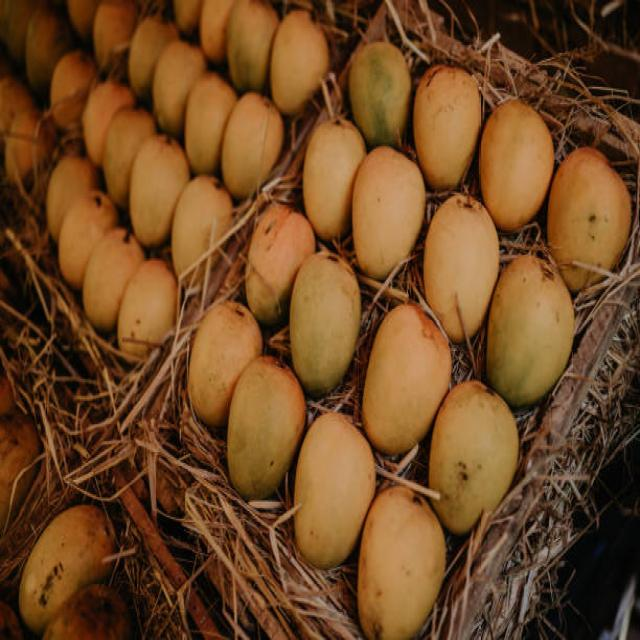mango: (429, 381, 519, 534), (486, 254, 575, 407), (358, 486, 445, 639), (362, 305, 450, 454), (294, 412, 376, 567), (19, 505, 116, 632), (548, 147, 631, 291), (424, 195, 499, 341), (228, 357, 305, 499), (290, 251, 361, 396), (479, 98, 554, 231), (352, 147, 425, 278), (189, 301, 262, 426), (245, 204, 315, 325), (414, 65, 481, 188), (304, 119, 366, 239), (129, 136, 190, 247), (221, 93, 284, 199), (82, 227, 145, 331), (349, 43, 410, 146), (270, 11, 329, 114), (171, 176, 232, 274), (60, 189, 118, 289), (119, 260, 176, 356), (185, 72, 238, 174), (104, 108, 156, 209), (152, 41, 206, 136), (226, 0, 279, 91), (46, 156, 99, 240), (129, 15, 179, 100), (84, 84, 135, 166), (200, 0, 234, 62)
